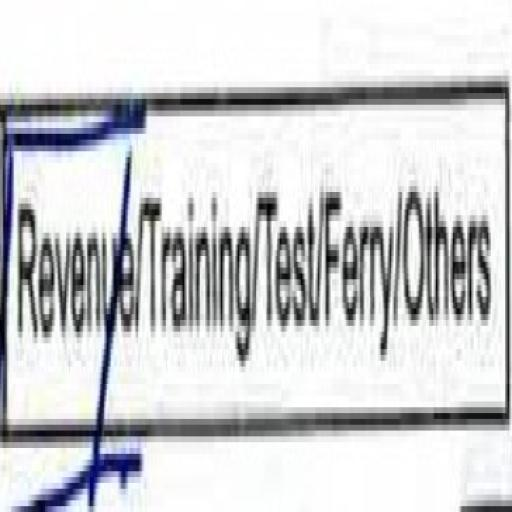check: (0, 40, 139, 512)
